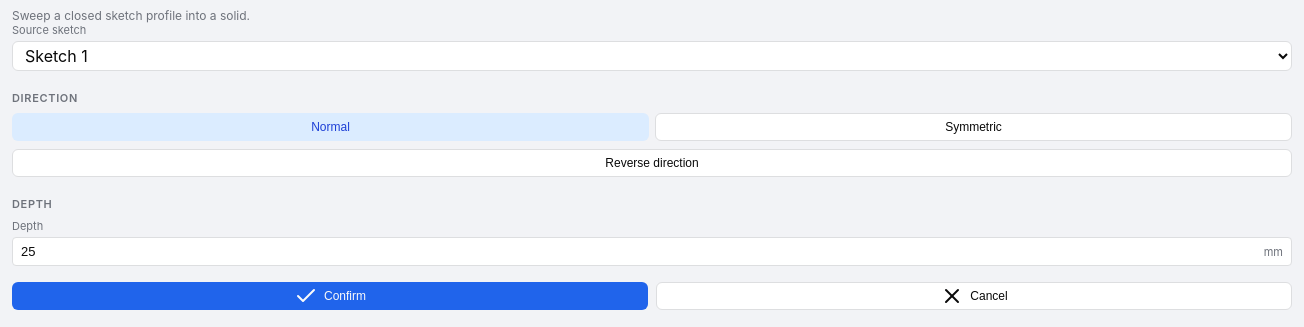
it: ExtrudeDialog › switches the operation direction and disables reverse while symmetric
Click the button "Symmetric" at {"x": 974, "y": 127}, box [655,113,1292,141]
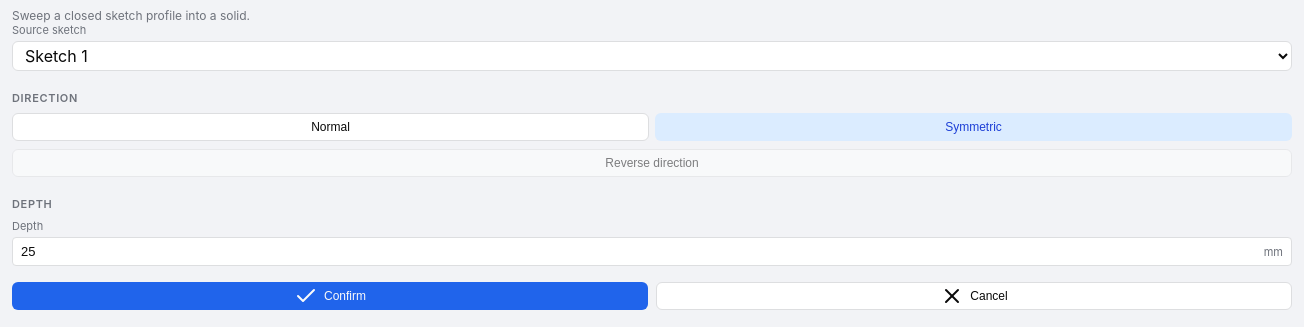
Check: the button "Reverse direction" is disabled, box [12,149,1292,177]
